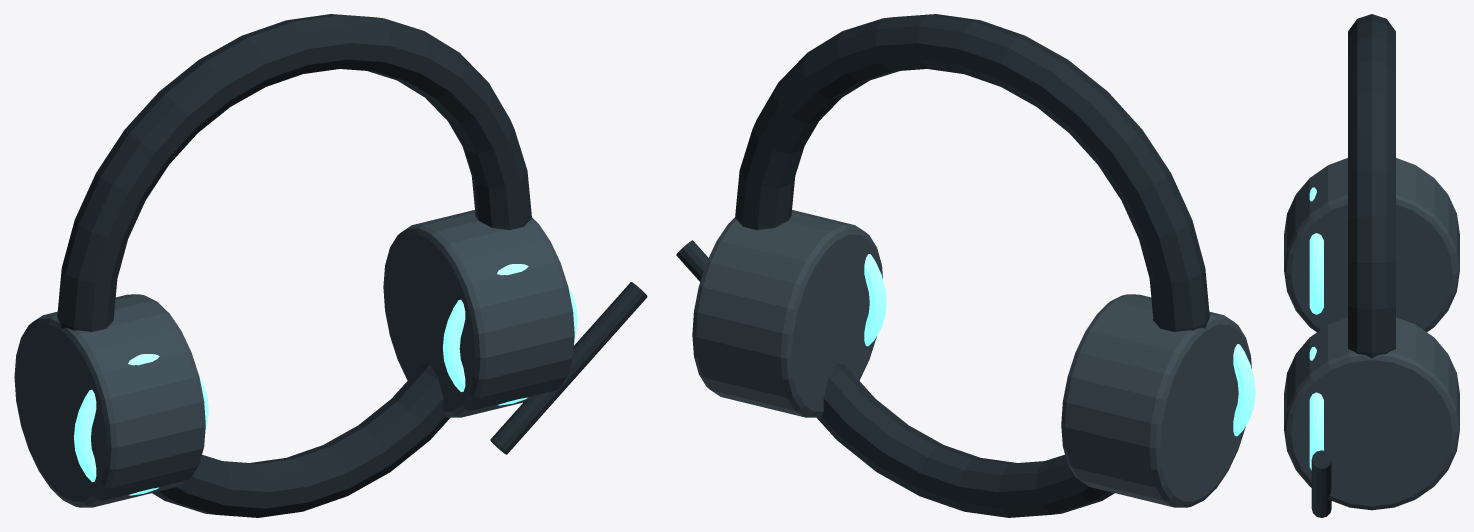
The model's file is CC_S16_P2_Product_SignalProHeadset_LOD0.fbx.
The picture shows the model from 3 angles, left to right: view 1: azimuth 30°, elevation 25°; view 2: azimuth 150°, elevation 25°; view 3: azimuth 270°, elevation 25°; orthographic projection. The views are drawn at different scales.
Parts seen in each view (by area): view 1: CC_S16_P2_Product_SignalProHeadset_LOD0_Band, CC_S16_P2_Product_SignalProHeadset_LOD0_Cup_-0.075, CC_S16_P2_Product_SignalProHeadset_LOD0_Cup_0.075, CC_S16_P2_Product_SignalProHeadset_LOD0_Mic, CC_S16_P2_Product_SignalProHeadset_LOD0_Accent_-0.075, CC_S16_P2_Product_SignalProHeadset_LOD0_Accent_0.075; view 2: CC_S16_P2_Product_SignalProHeadset_LOD0_Band, CC_S16_P2_Product_SignalProHeadset_LOD0_Cup_-0.075, CC_S16_P2_Product_SignalProHeadset_LOD0_Cup_0.075, CC_S16_P2_Product_SignalProHeadset_LOD0_Accent_-0.075, CC_S16_P2_Product_SignalProHeadset_LOD0_Accent_0.075, CC_S16_P2_Product_SignalProHeadset_LOD0_Mic; view 3: CC_S16_P2_Product_SignalProHeadset_LOD0_Cup_0.075, CC_S16_P2_Product_SignalProHeadset_LOD0_Cup_-0.075, CC_S16_P2_Product_SignalProHeadset_LOD0_Band, CC_S16_P2_Product_SignalProHeadset_LOD0_Mic, CC_S16_P2_Product_SignalProHeadset_LOD0_Accent_-0.075, CC_S16_P2_Product_SignalProHeadset_LOD0_Accent_0.075.
Boxes of the visible parts, x1,y1,x2,y2 form: CC_S16_P2_Product_SignalProHeadset_LOD0_Band: (57, 14, 531, 517); CC_S16_P2_Product_SignalProHeadset_LOD0_Cup_-0.075: (14, 294, 205, 507); CC_S16_P2_Product_SignalProHeadset_LOD0_Cup_0.075: (383, 210, 574, 417); CC_S16_P2_Product_SignalProHeadset_LOD0_Mic: (490, 282, 647, 454); CC_S16_P2_Product_SignalProHeadset_LOD0_Accent_-0.075: (74, 354, 208, 495); CC_S16_P2_Product_SignalProHeadset_LOD0_Accent_0.075: (443, 264, 577, 405); CC_S16_P2_Product_SignalProHeadset_LOD0_Band: (735, 14, 1209, 517); CC_S16_P2_Product_SignalProHeadset_LOD0_Cup_-0.075: (1061, 294, 1251, 507); CC_S16_P2_Product_SignalProHeadset_LOD0_Cup_0.075: (692, 210, 882, 417); CC_S16_P2_Product_SignalProHeadset_LOD0_Accent_-0.075: (1233, 344, 1255, 436); CC_S16_P2_Product_SignalProHeadset_LOD0_Accent_0.075: (864, 254, 886, 346); CC_S16_P2_Product_SignalProHeadset_LOD0_Mic: (676, 240, 708, 281); CC_S16_P2_Product_SignalProHeadset_LOD0_Cup_0.075: (1284, 317, 1459, 510); CC_S16_P2_Product_SignalProHeadset_LOD0_Cup_-0.075: (1284, 158, 1459, 331); CC_S16_P2_Product_SignalProHeadset_LOD0_Band: (1348, 14, 1395, 358); CC_S16_P2_Product_SignalProHeadset_LOD0_Mic: (1311, 450, 1331, 517); CC_S16_P2_Product_SignalProHeadset_LOD0_Accent_-0.075: (1309, 187, 1323, 314); CC_S16_P2_Product_SignalProHeadset_LOD0_Accent_0.075: (1309, 346, 1323, 470).
Size of what is drawn, in the model's own units: 0.2331 by 0.19 by 0.07.
